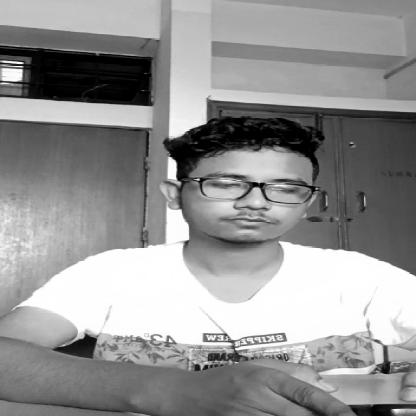Normal: (170, 118, 316, 246)
